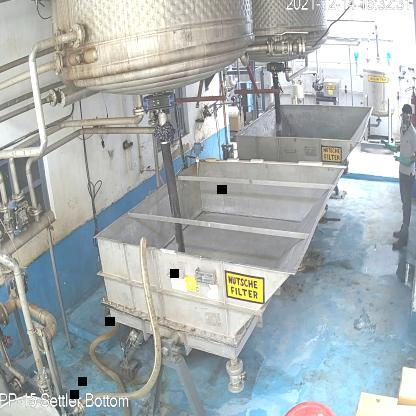goggles: (398, 110, 411, 122)
mask: (400, 117, 411, 133)
